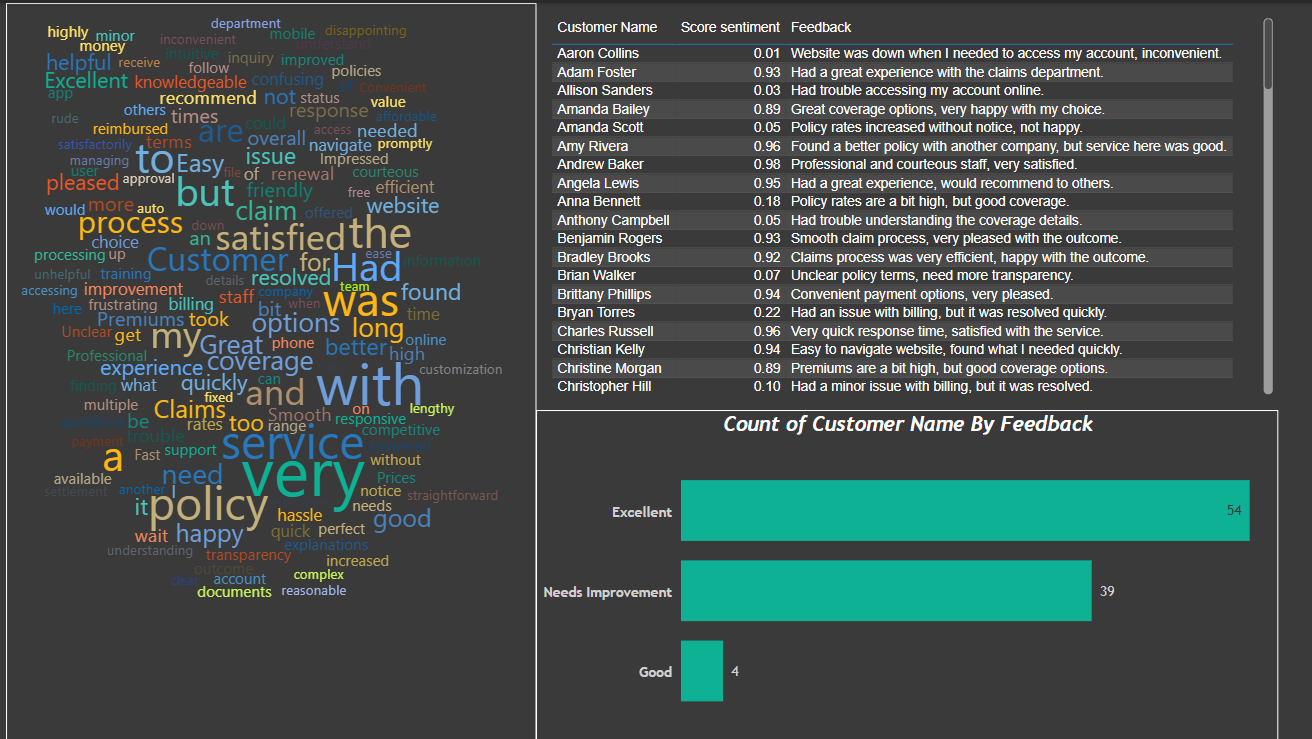

Layout of this report page (visuals, bound fields, positions):
{"tool":"powerbi","page":{"name":"Page 3","canvas":[1280,720],"ordinal":2},"visuals":[{"type":"WordCloud1447959067750","fields":{"Category":["Sheet1.Feedback"],"Values":["Sheet1.Feedback"]},"box":[9.7,0,515.5,719.8],"z":0},{"type":"barChart","title":"Count of Customer Name By Feedback","fields":{"Category":["Sheet1.Good/Improvement"],"Y":["Sheet1.Customer Name"]},"box":[525.2,395.9,721.7,323.9],"z":1},{"type":"tableEx","fields":{"Values":["Sheet1.Customer Name","Sheet1.Score sentiment","Sheet1.Feedback"]},"box":[535,9.7,712,376.4],"z":2}]}

Visuals, with their boxes in screenshot pixels (x1, y1, x2, y2), scaled from the page's 1280x720 canvas onto the 1312x739 screenshot:
WordCloud1447959067750 - Sheet1.Feedback x Sheet1.Feedback: [10,0,538,738]
"Count of Customer Name By Feedback" barChart: [538,406,1278,738]
tableEx - Sheet1.Customer Name x Sheet1.Score sentiment: [548,10,1278,396]
